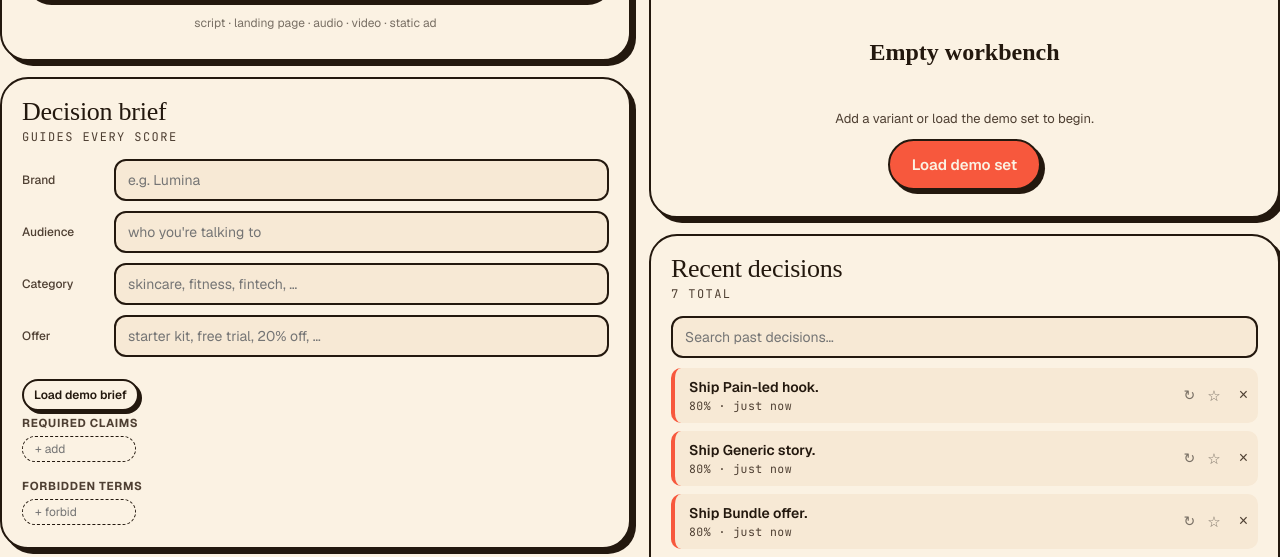
Test: Workbench › shows a search box and filters the decision history once there are several
(page scrolled)
Expected: the text "Ship Pain-led hook." is shown, [689,378,818,396]
# Filter to the one whose winner is "Bundle offer".
Type "Bundle" into the search field labelled "Search past decisions…" at {"x": 964, "y": 337}, box [671,316,1258,358]
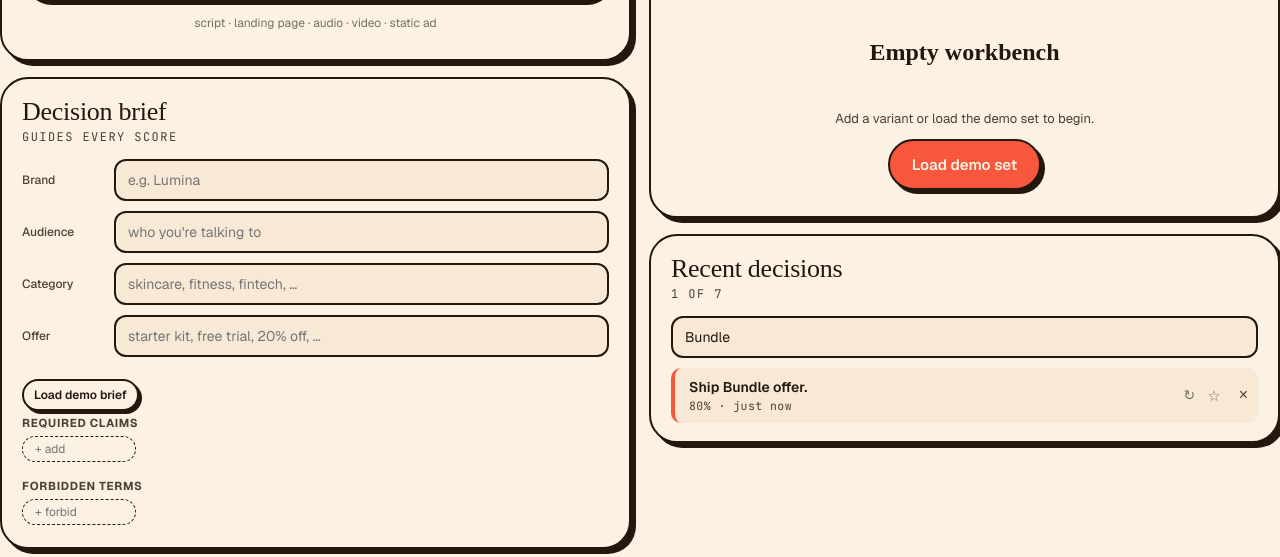
Expected: the text "Ship Bundle offer." is shown, [689,378,807,396]
Result: the button "Ship Pain-led hook." is gone
